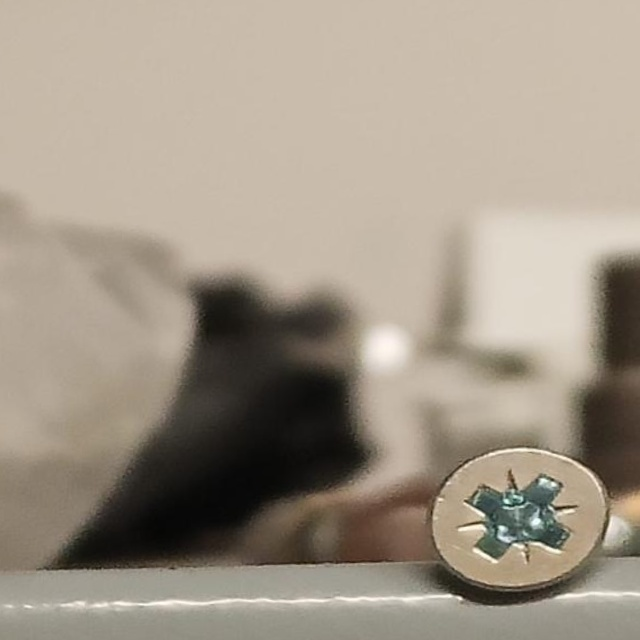pozidriv: (427, 440, 608, 599)
